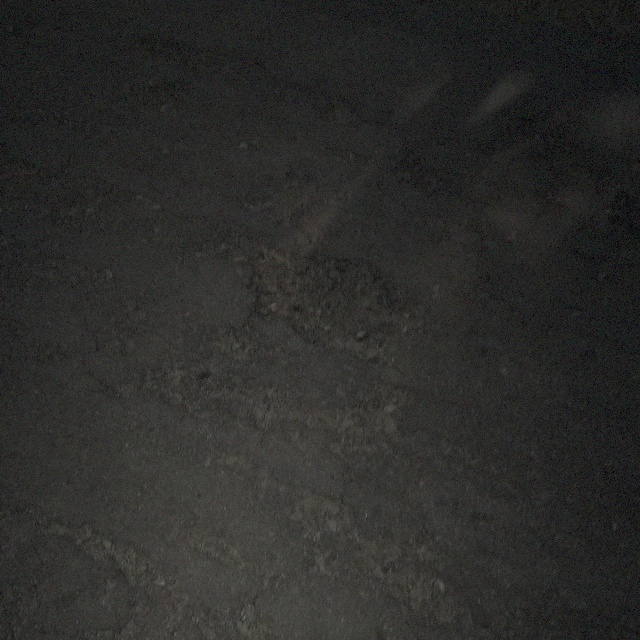pothole: (238, 238, 428, 363)
